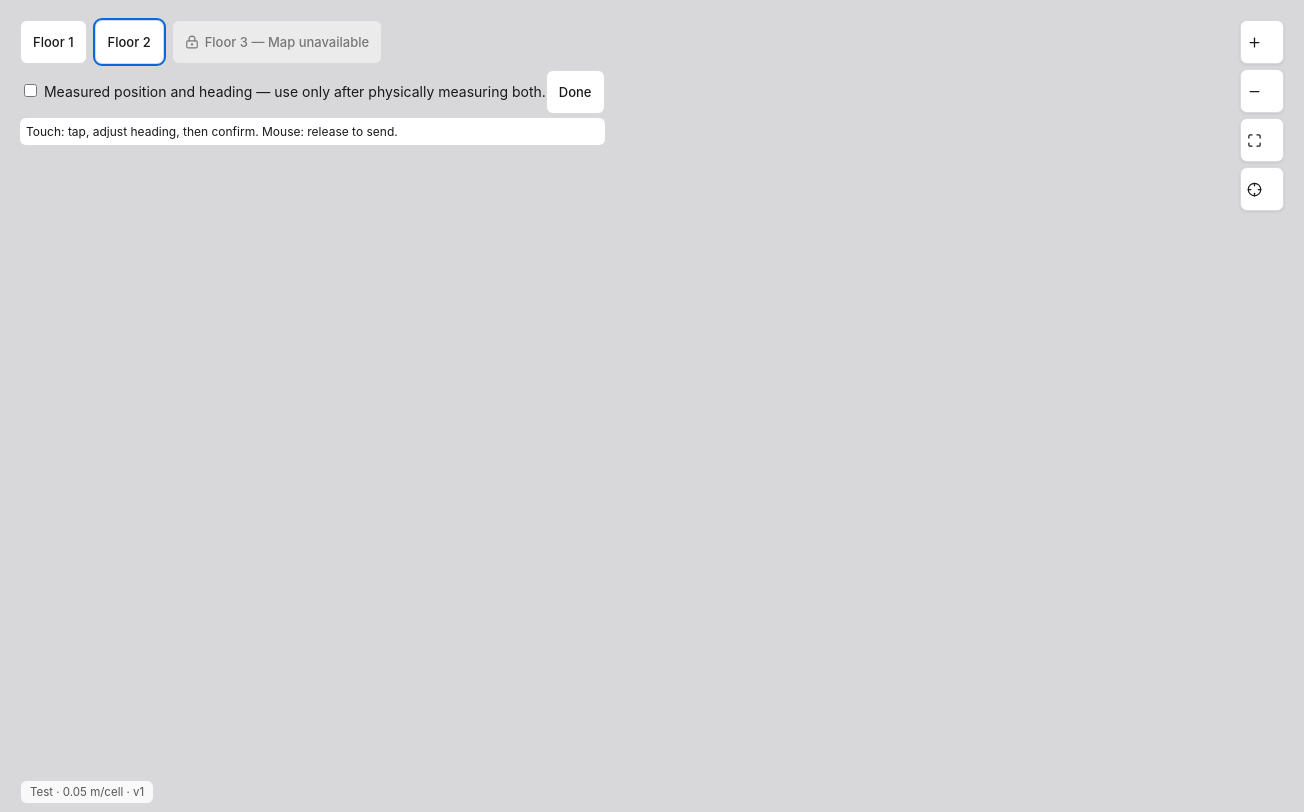
Test: live map command boundary › normal lost capture after release preserves the touch preview
Press the mouse on the drawing named "Live robot map" at (652, 412), box [12,12,1292,811]
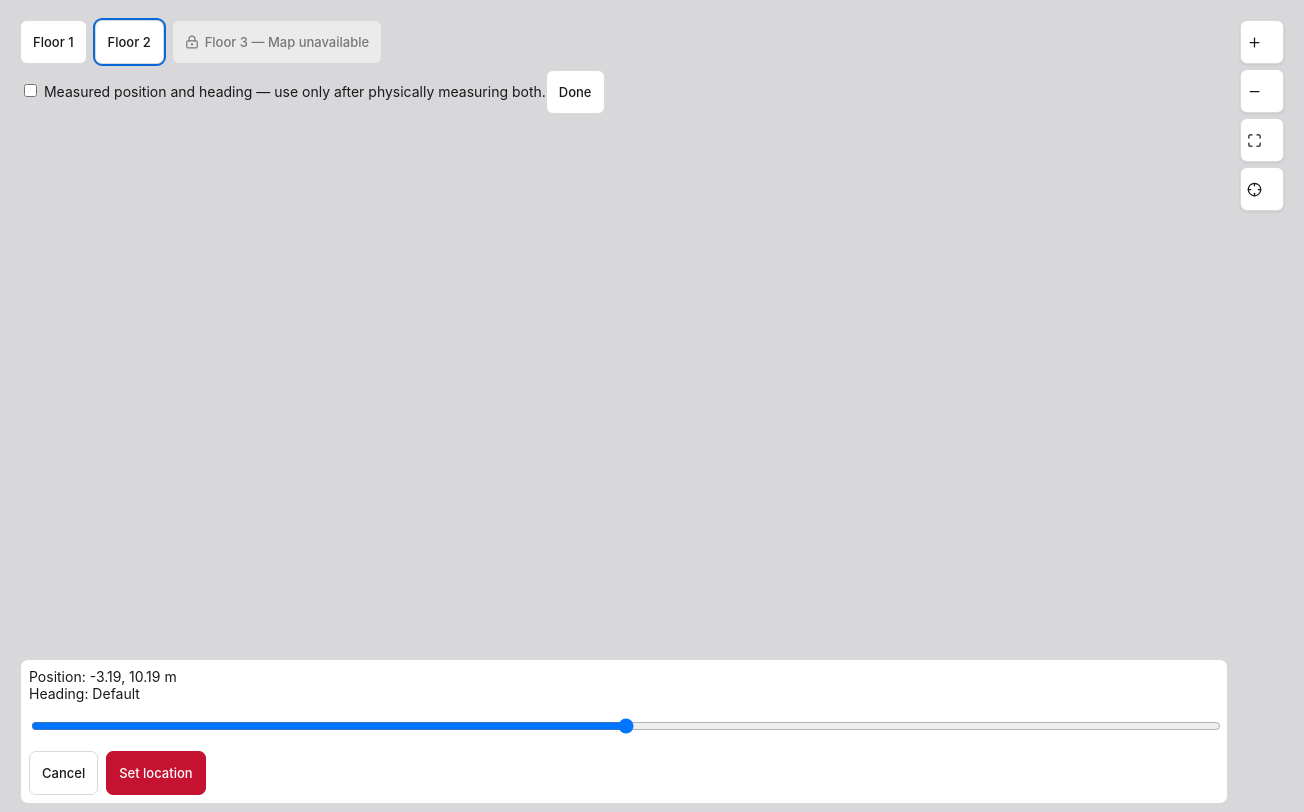
Now the element named "Confirm map selection" is shown, box [20,659,1228,804]
